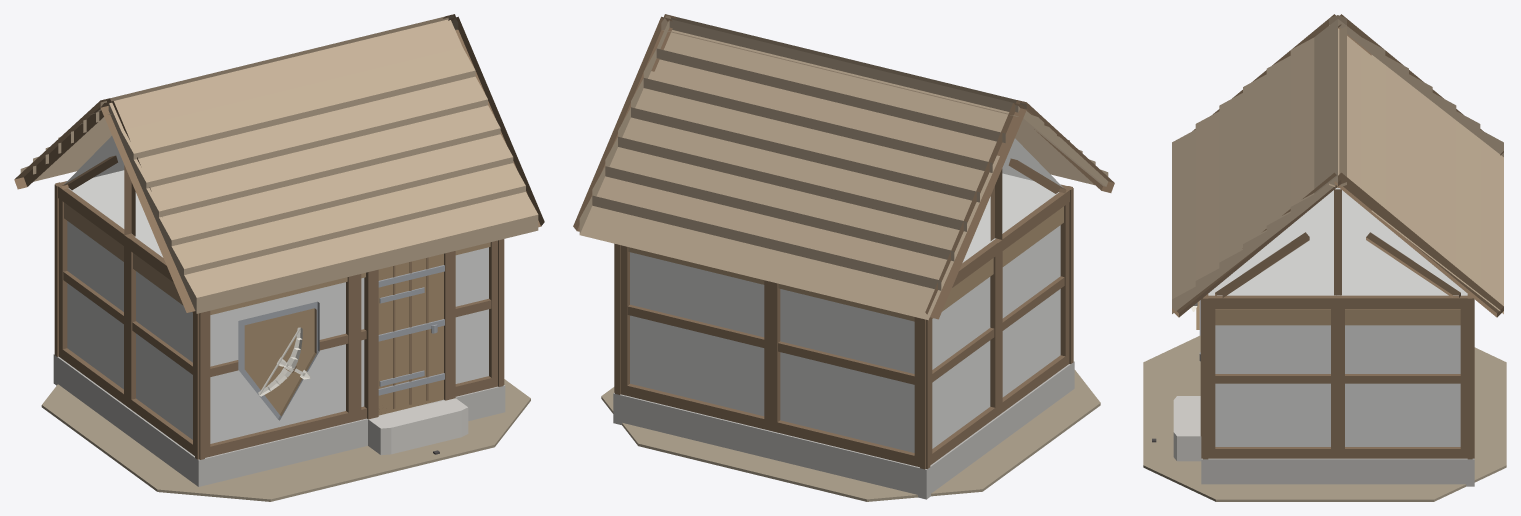
The model's file is armory.glb.
3 renders of one model, left to right at view 1: azimuth 30°, elevation 25°; view 2: azimuth 150°, elevation 25°; view 3: azimuth 270°, elevation 25°, orthographic. The views are drawn at different scales.
Parts seen in each view (by area): view 1: Cut.Wall.Front, Cut.Roof, Cut.Wall.Left, Ground, Cut.Roof#5, Cut.Roof#4, Cut.Roof#3, Cut.Roof#2, Cut.Roof#6, Cut.Roof#7, Plinth, Cut.Wall.Door (+27 smaller); view 2: Cut.Wall.Back, Cut.Roof#8, Cut.Wall.Left, Plinth, Cut.Roof#9, Cut.Roof#10, Cut.Roof#11, Cut.Roof#12, Cut.Roof#13, Ground, Cut.Roof#14, Cut.Wall.Timber.Sill#2 (+23 smaller); view 3: Cut.Wall.Right, Ground, Cut.Roof.Gable, Plinth, Cut.Roof#2, Cut.Roof#5, Cut.Roof#6, Cut.Roof#3, Cut.Roof#4, Cut.Roof, Cut.Roof#9, Cut.Roof#10 (+25 smaller).
Boxes of the visible parts, box(x1,y1,x2,y2) form: Cut.Wall.Front: box(210, 247, 488, 443); Cut.Roof: box(184, 192, 538, 313); Cut.Wall.Left: box(72, 187, 192, 439); Ground: box(41, 379, 530, 501); Cut.Roof#5: box(133, 76, 487, 197); Cut.Roof#4: box(146, 105, 500, 226); Cut.Roof#3: box(159, 134, 513, 255); Cut.Roof#2: box(171, 163, 525, 283); Cut.Roof#6: box(121, 47, 475, 168); Cut.Roof#7: box(108, 19, 462, 139); Plinth: box(53, 354, 505, 486); Cut.Wall.Door: box(378, 253, 443, 415); Cut.Wall.Back: box(630, 252, 914, 452); Cut.Roof#8: box(579, 195, 941, 320); Cut.Wall.Left: box(932, 194, 1055, 448); Plinth: box(613, 361, 1074, 499); Cut.Roof#9: box(592, 166, 954, 290); Cut.Roof#10: box(605, 136, 966, 260); Cut.Roof#11: box(618, 107, 979, 231); Cut.Roof#12: box(631, 78, 992, 201); Cut.Roof#13: box(643, 48, 1005, 172); Ground: box(601, 370, 1100, 501); Cut.Roof#14: box(657, 20, 1009, 132); Cut.Wall.Timber.Sill#2: box(620, 383, 914, 465); Cut.Wall.Right: box(1224, 289, 1451, 446); Ground: box(1143, 335, 1506, 501); Cut.Roof.Gable: box(1208, 188, 1466, 295); Plinth: box(1201, 458, 1474, 486); Cut.Roof#2: box(1195, 111, 1219, 295); Cut.Roof#5: box(1266, 56, 1290, 240); Cut.Roof#6: box(1290, 37, 1314, 221); Cut.Roof#3: box(1219, 93, 1242, 277); Cut.Roof#4: box(1243, 74, 1266, 258); Cut.Roof: box(1172, 130, 1195, 313); Cut.Roof#9: box(1456, 111, 1480, 295); Cut.Roof#10: box(1432, 93, 1456, 276).
Size of the model in its own units: 4.7 by 4.1 by 4.2.
